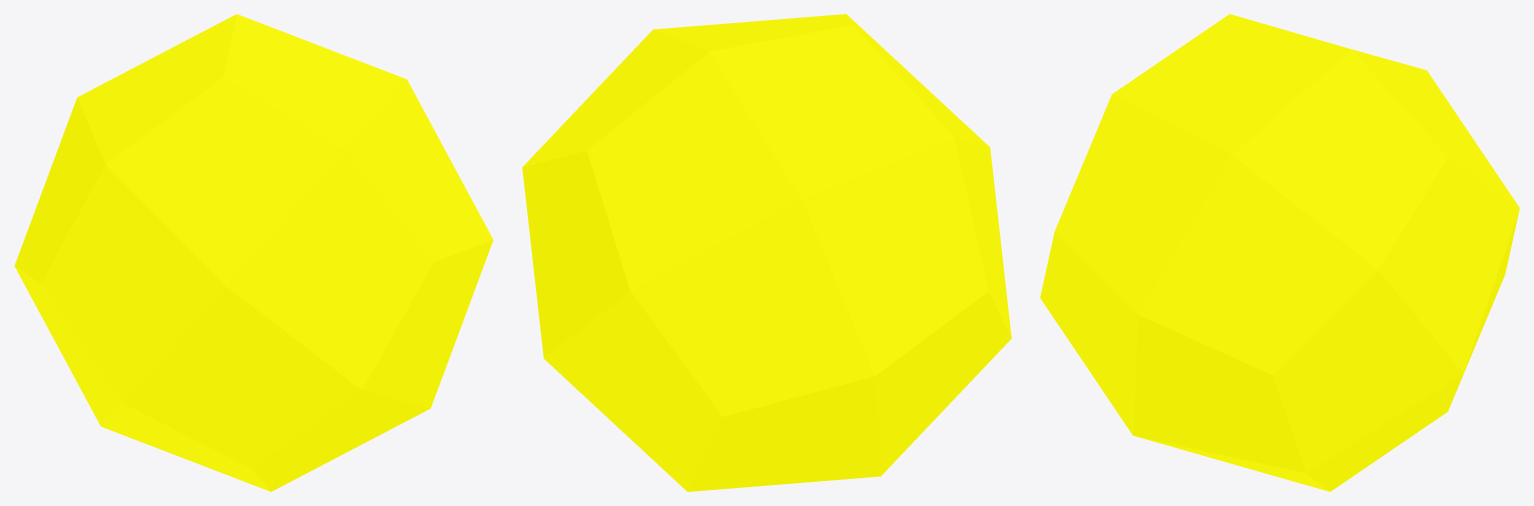
Rendered from Spirit.glb.
3 renders of one model, left to right at view 1: azimuth 30°, elevation 25°; view 2: azimuth 150°, elevation 25°; view 3: azimuth 270°, elevation 25°, orthographic. The views are drawn at different scales.
Visible parts, largest first — view 1: Spirit; view 2: Spirit; view 3: Spirit.
Part boxes in pixels (x1,y1,x2,y2): Spirit: (14, 14, 493, 491); Spirit: (522, 14, 1011, 491); Spirit: (1040, 14, 1519, 491).
Size of the model in its own units: 0.0704 by 0.067 by 0.0685.
